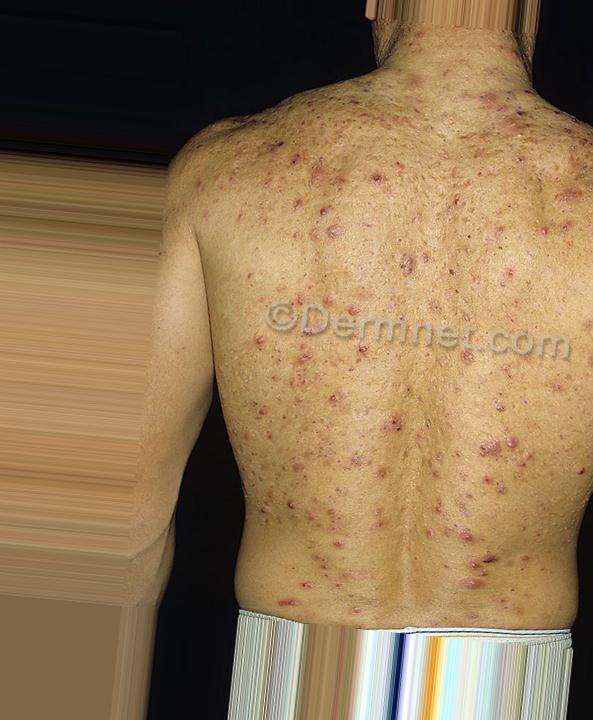Acne: (272, 459, 361, 599), (283, 133, 380, 256), (516, 165, 592, 254), (480, 419, 553, 505)
